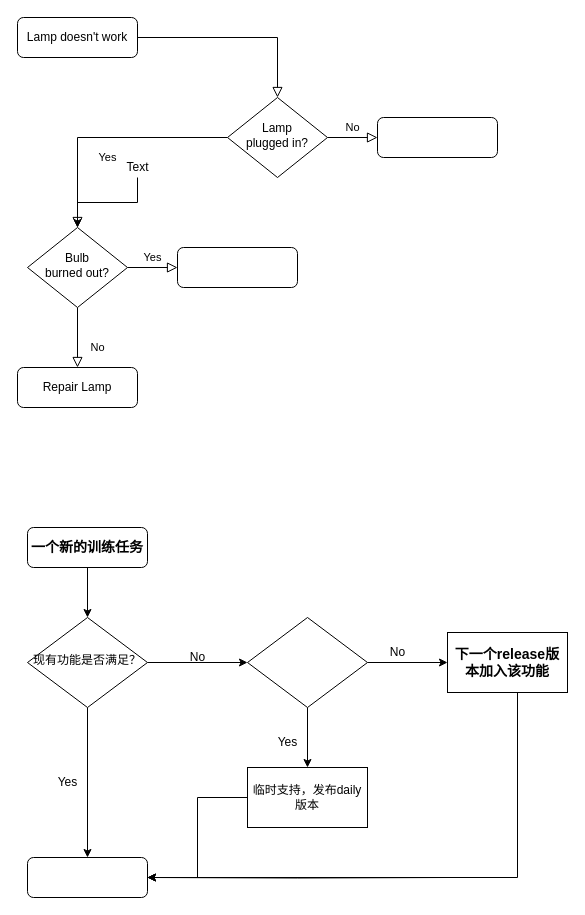
The diagram is 585 pixels wide and 915 high, and some of its shapes have lost their labels. The shapes that lost their labels are listed below. From the top down, each one's box as (x1, y1, x2, y2) in pixels, then its label:
(376, 116, 498, 158): Plug in lamp
(176, 246, 298, 288): Replace Bulb
(246, 616, 368, 708): 需求是否紧急？
(26, 856, 148, 898): 任务结束
